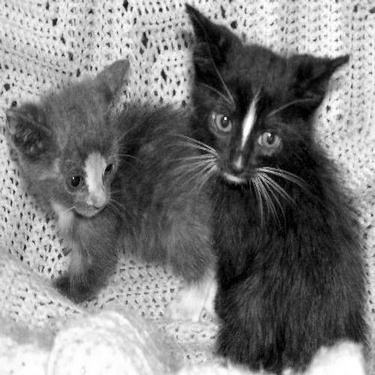cat: (182, 2, 374, 373), (7, 58, 216, 303)
